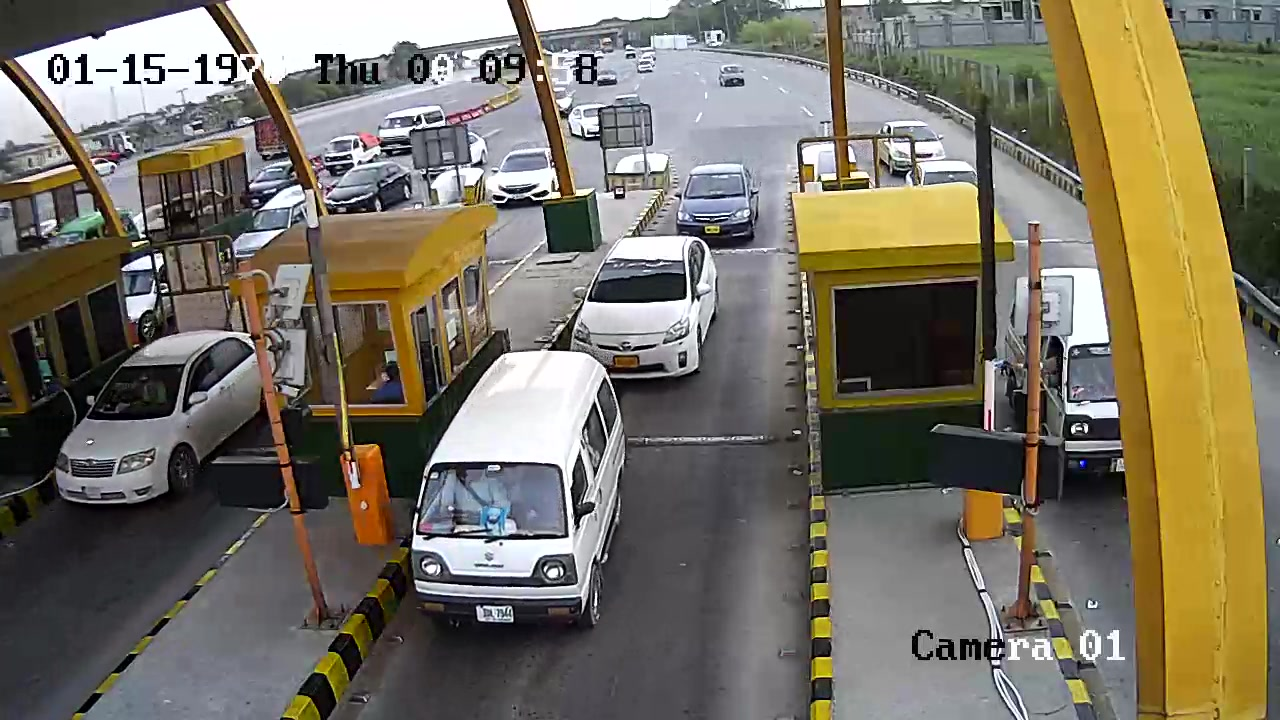F1: (402, 350, 632, 651), (567, 228, 719, 396)
